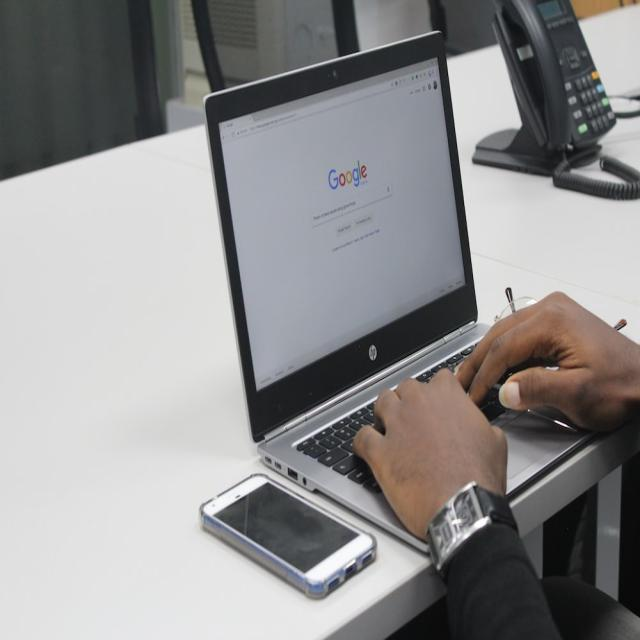keyboard-with-hands: (268, 326, 640, 545)
